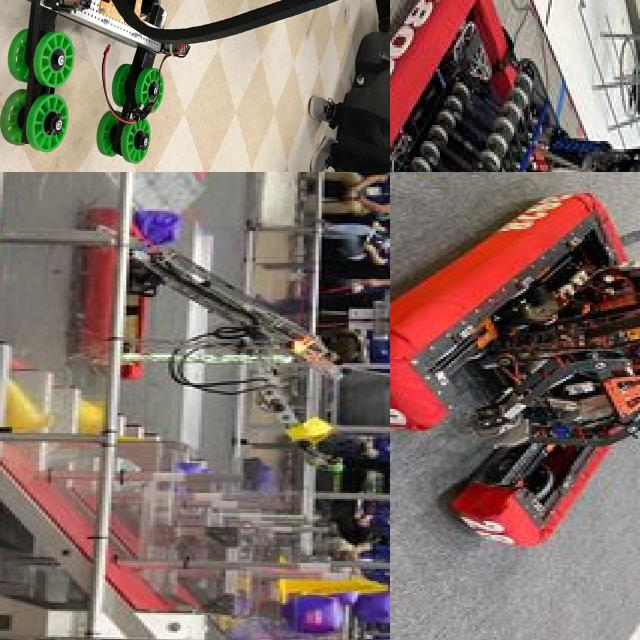FRC-Robots: (390, 172, 640, 590), (0, 0, 390, 172), (85, 235, 376, 393), (390, 0, 640, 172)
